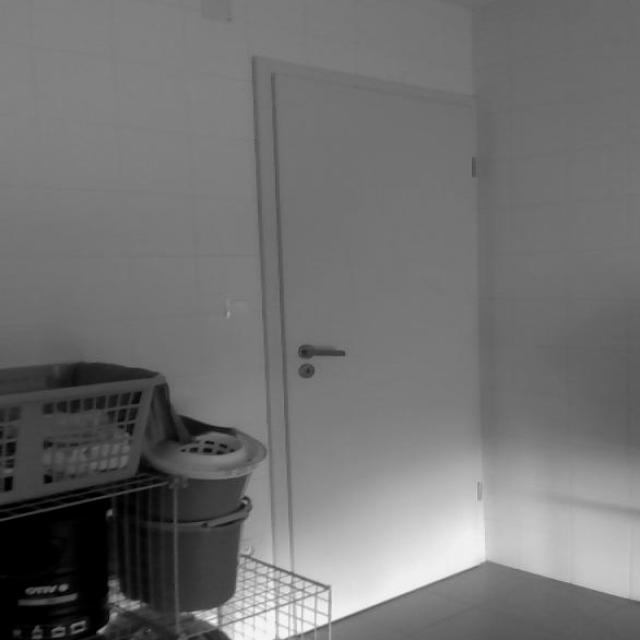door: (255, 55, 487, 628)
